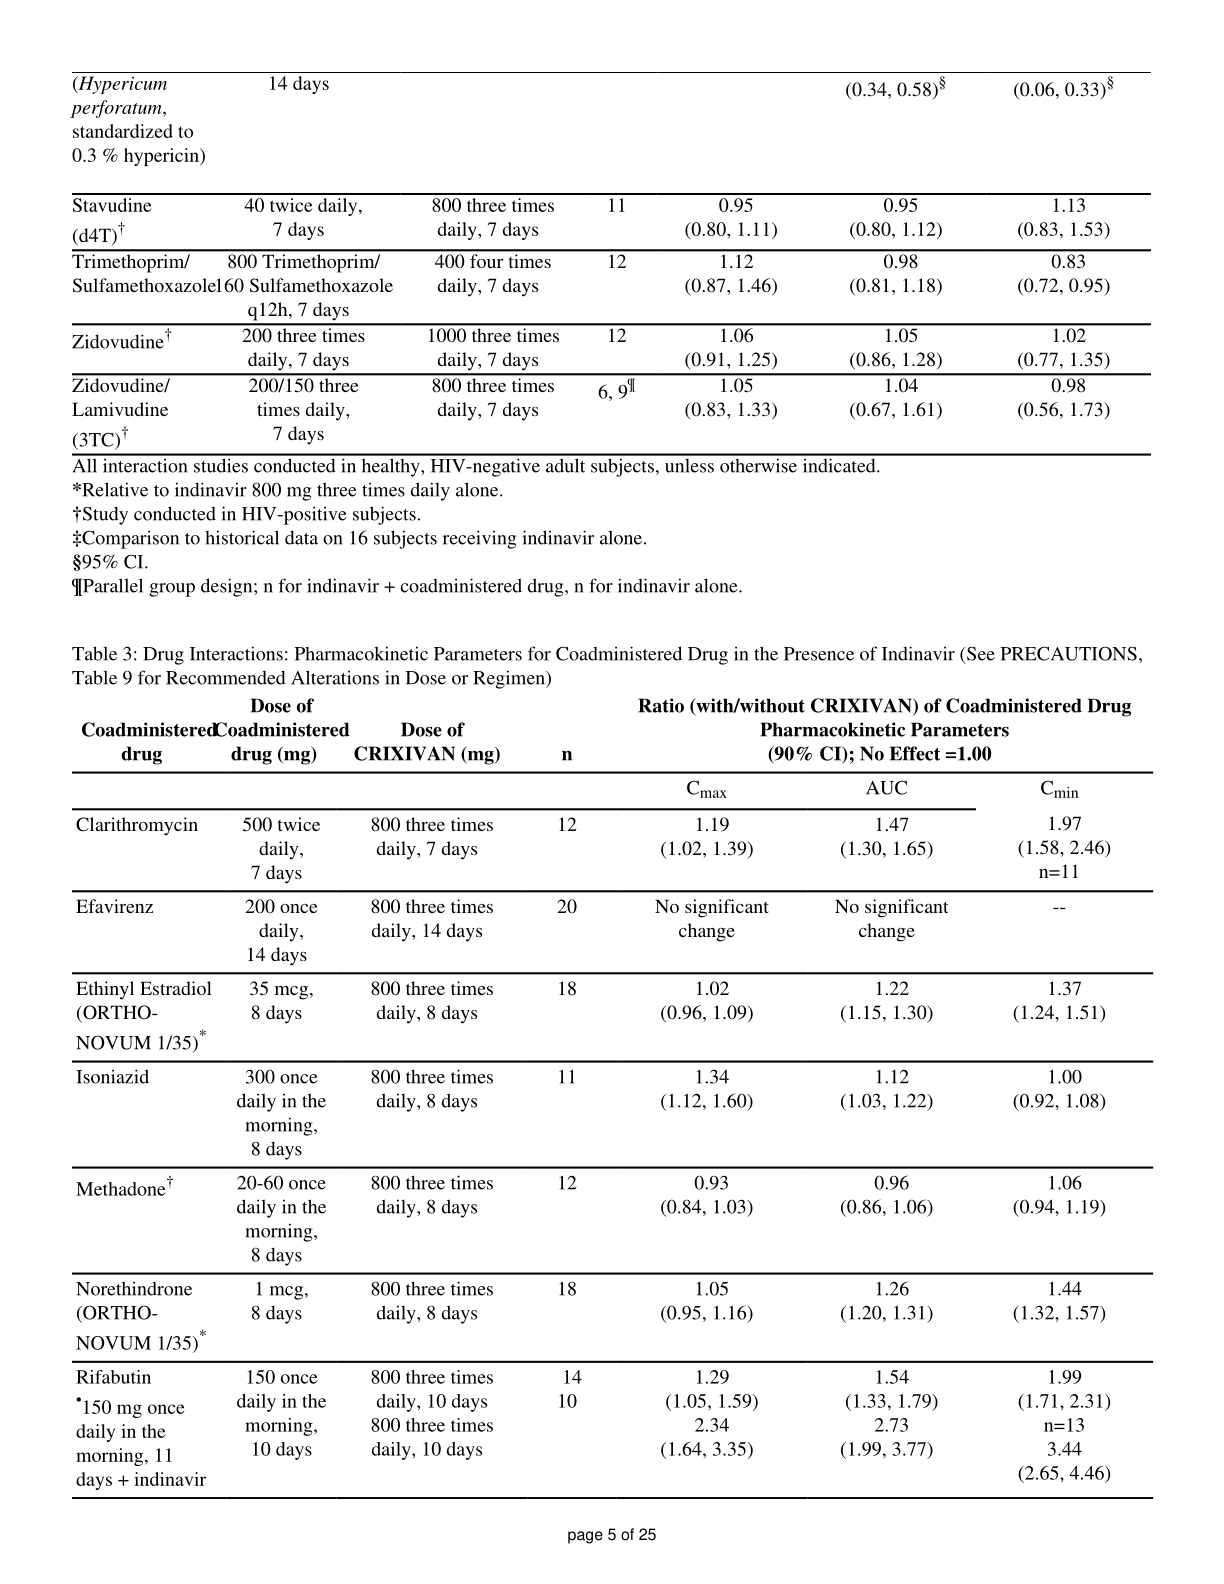partial_lined: (69, 68, 1153, 460)
partial_lined_merged_cells: (69, 694, 1157, 1502)
